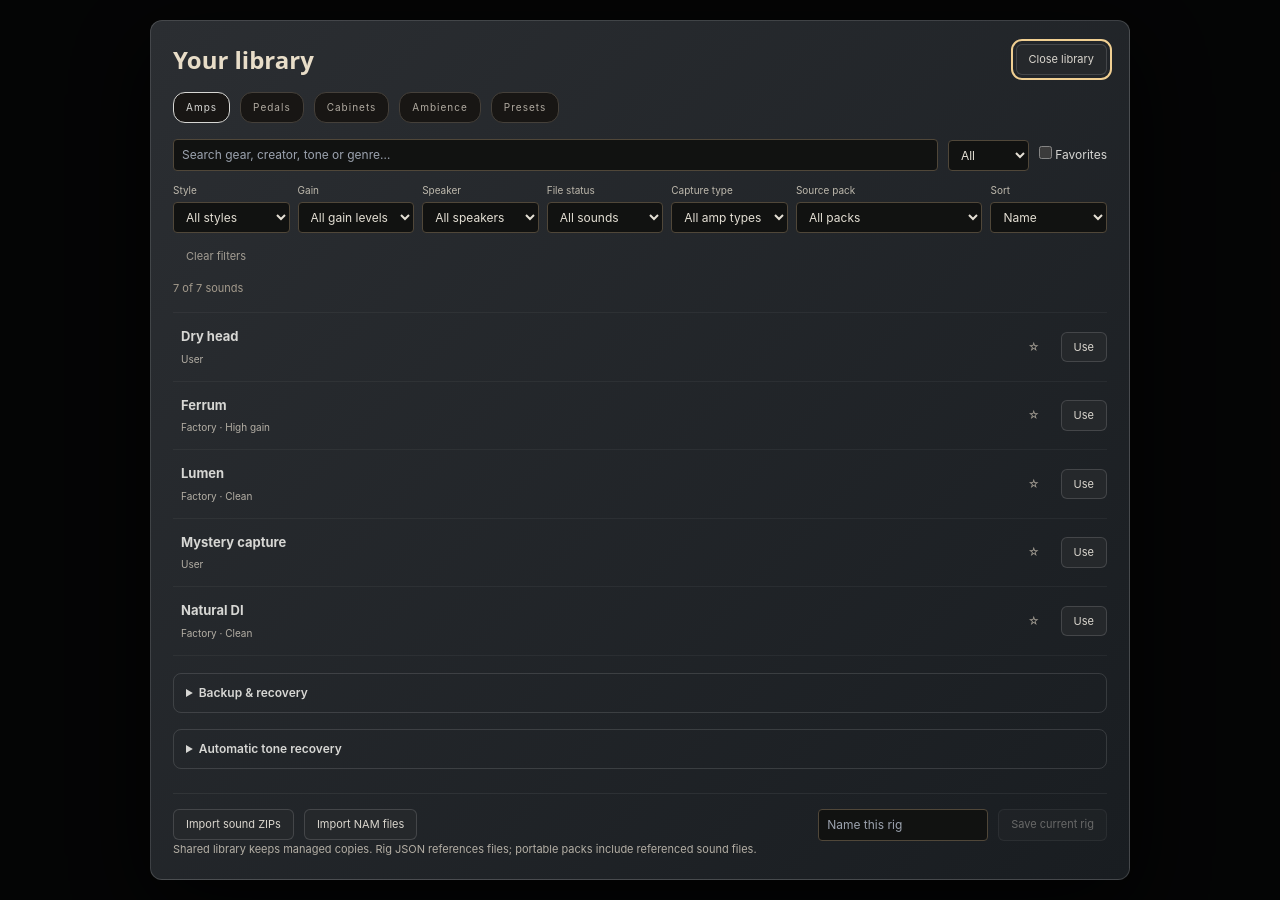
Test: combines missing-file and capture-type filters and refreshes after relinking
Select "Full rig" in the dropdown named "Library capture type" at [730, 218], box [671, 202, 788, 233]
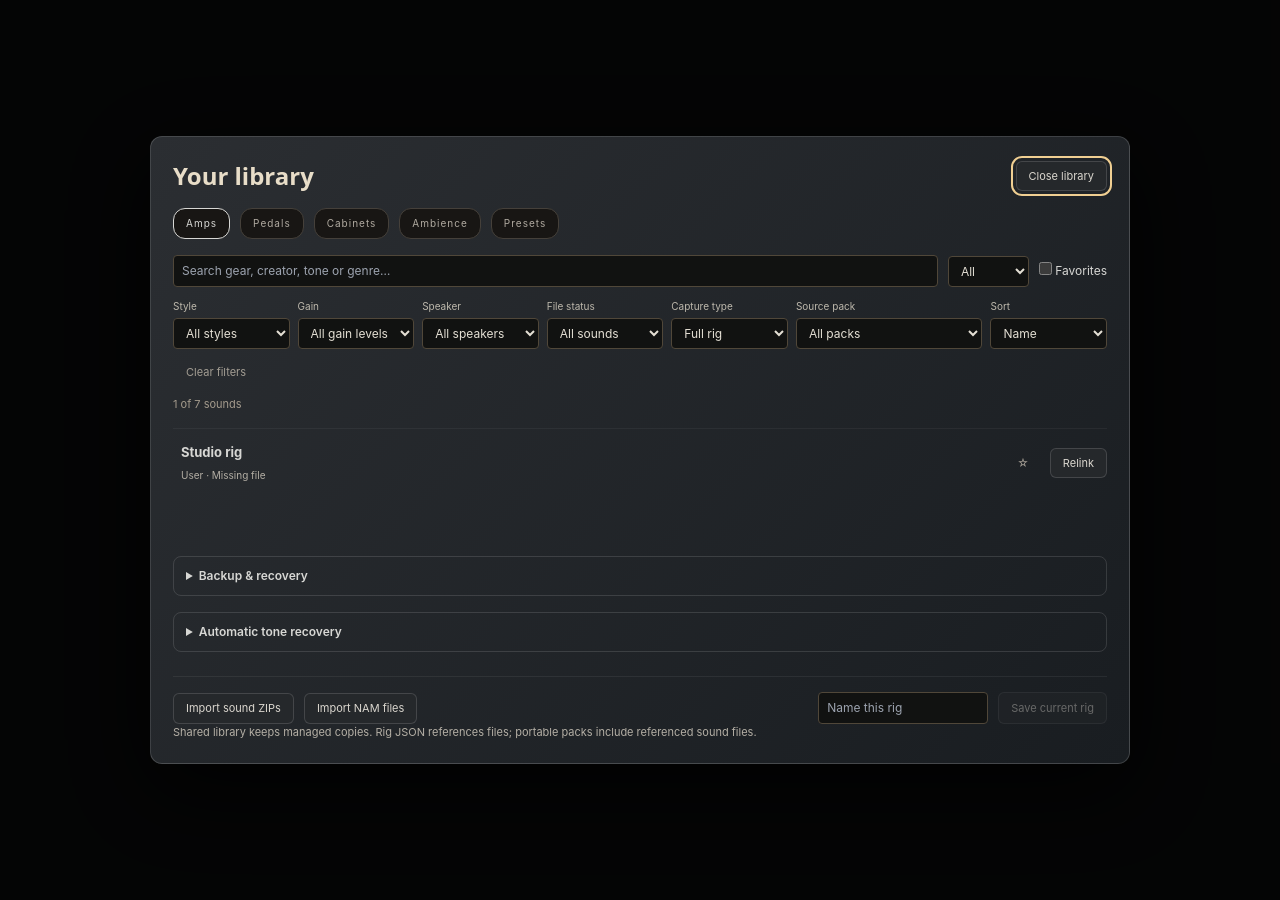
Select "Missing files" in the dropdown named "Library file status" at [605, 334], box [547, 318, 663, 349]
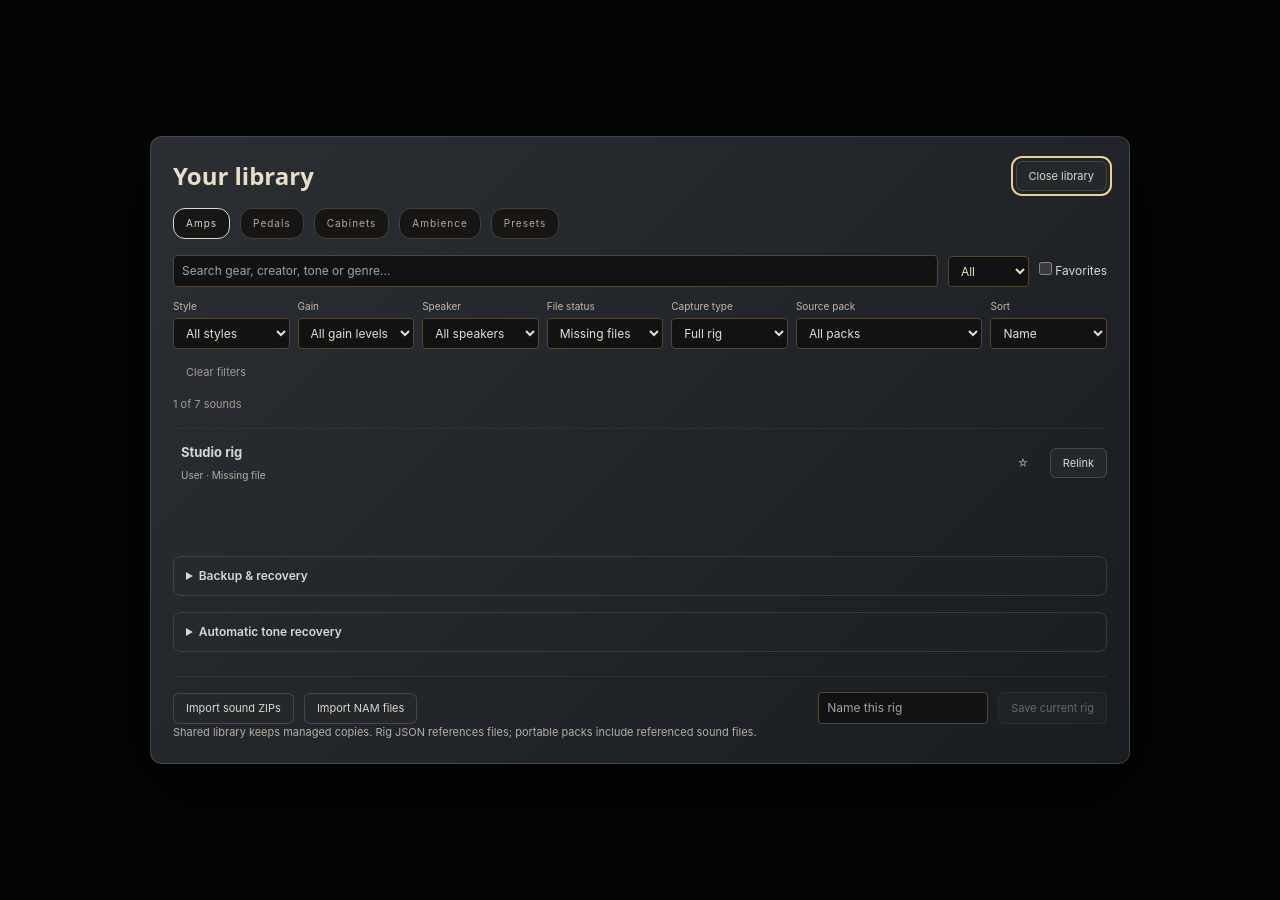
Expected: the button "Dry head" is not shown
Expected: the message reads "1 of 7 sounds", [173, 397, 242, 411]
Click the text "Studio rig" at [212, 452], box [181, 444, 242, 460]
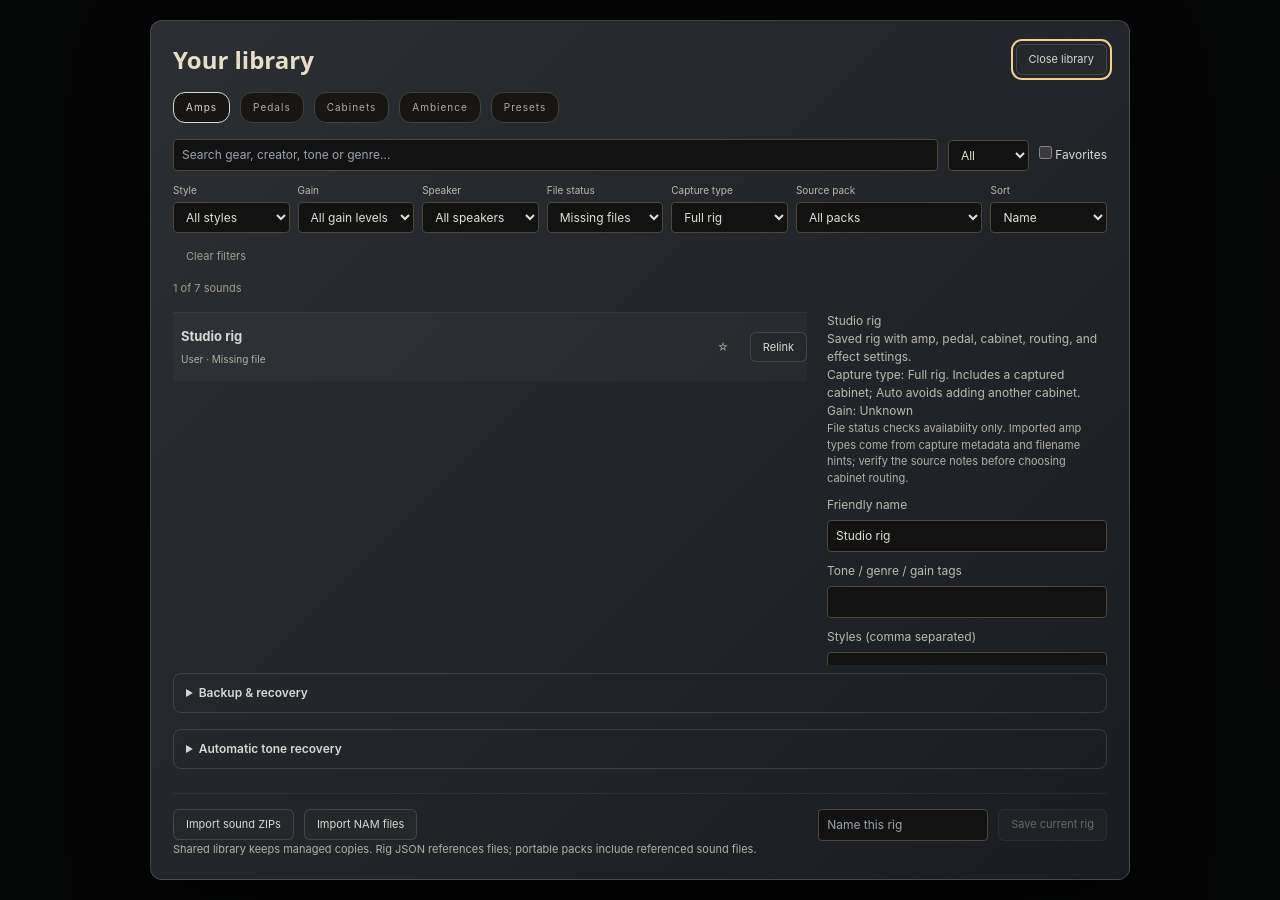
Expected: the text "Includes a captured cabinet" is shown, [827, 367, 1080, 400]
Click the button "Relink" at [778, 347], box [750, 332, 807, 362]
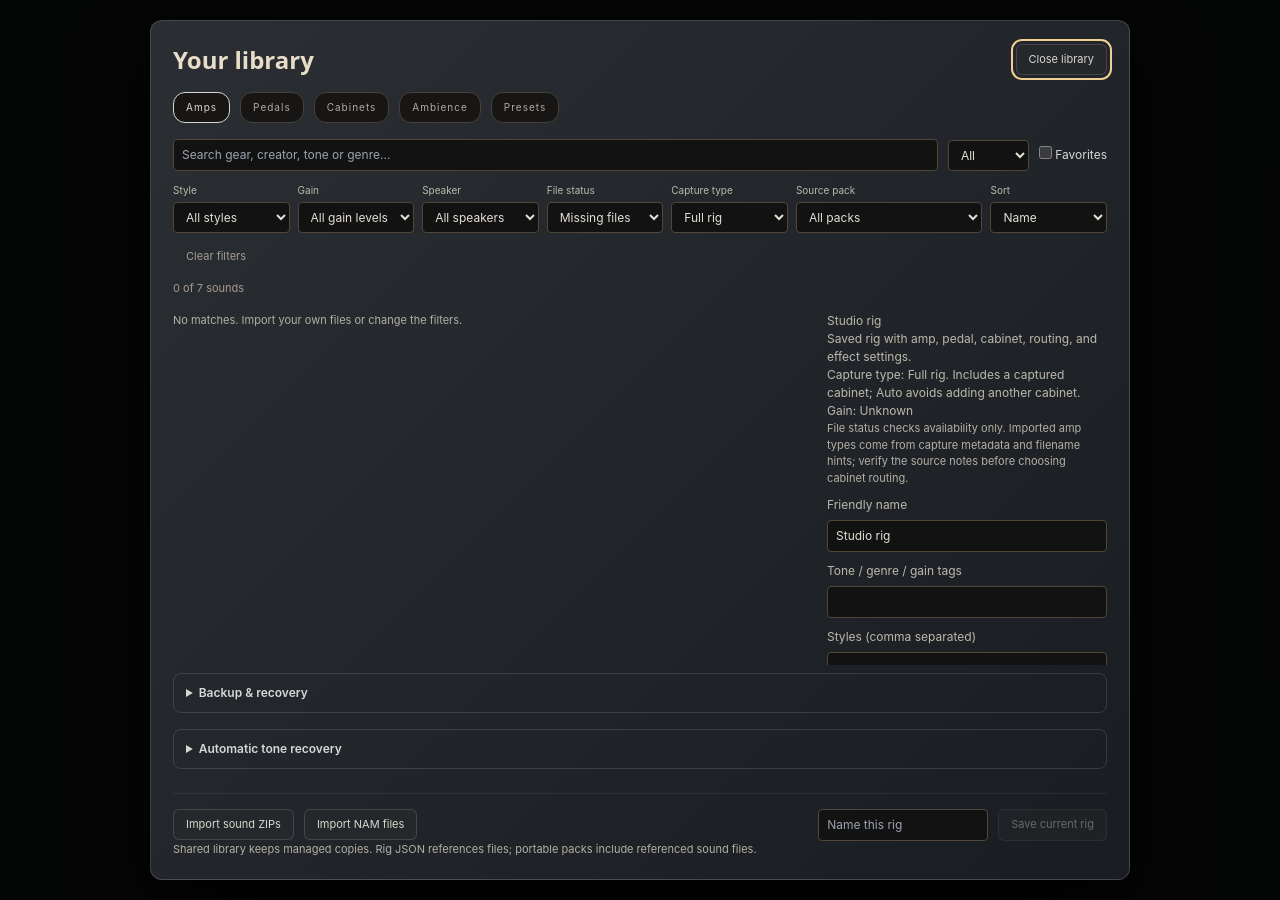
Expected: the message reads "0 of 7 sounds", [173, 280, 244, 294]
Select "Available" in the dropdown named "Library file status" at [605, 218], box [547, 202, 663, 233]
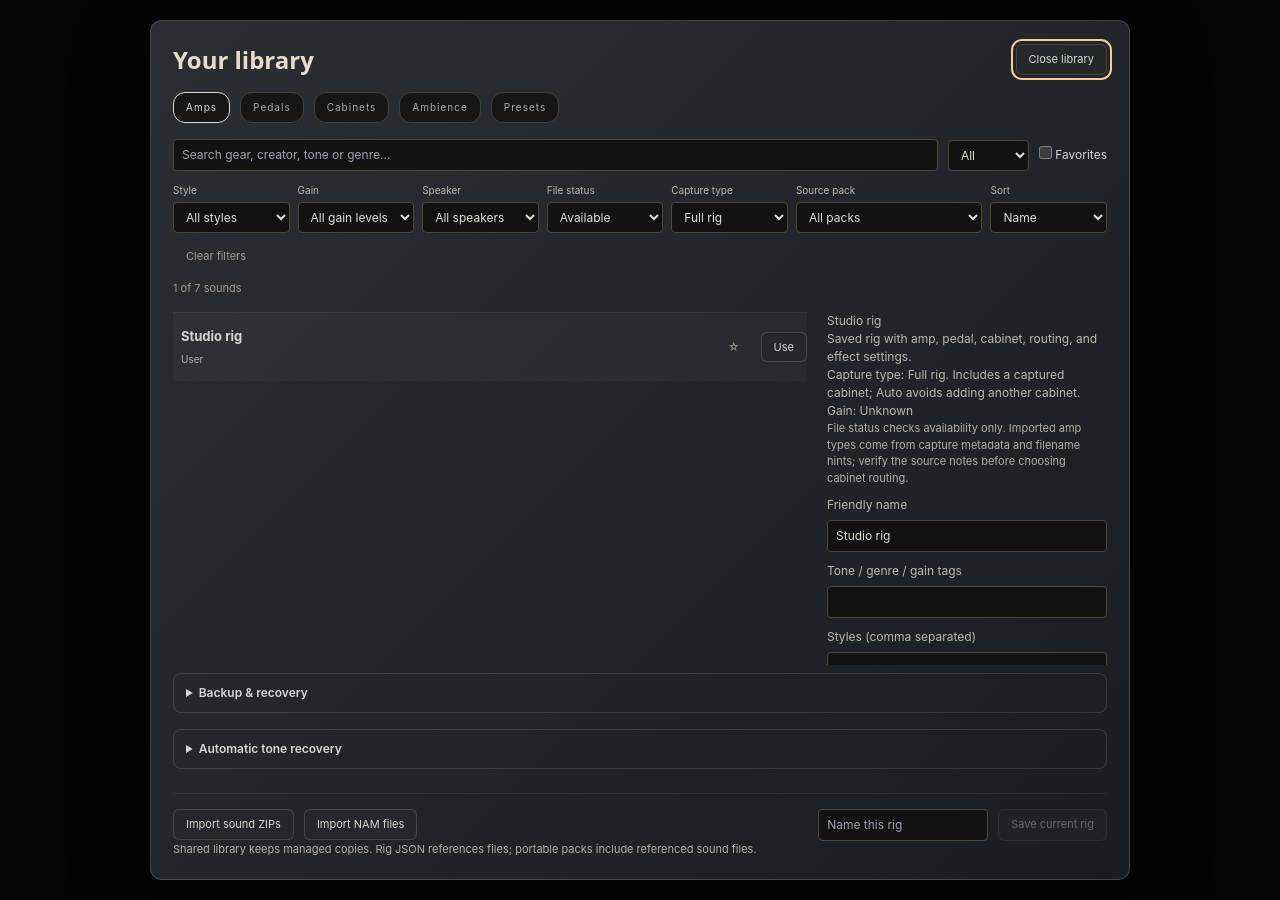
Expected: the message reads "1 of 7 sounds", [173, 280, 242, 294]
Click the button "Clear filters" at [216, 256], box [173, 241, 259, 272]
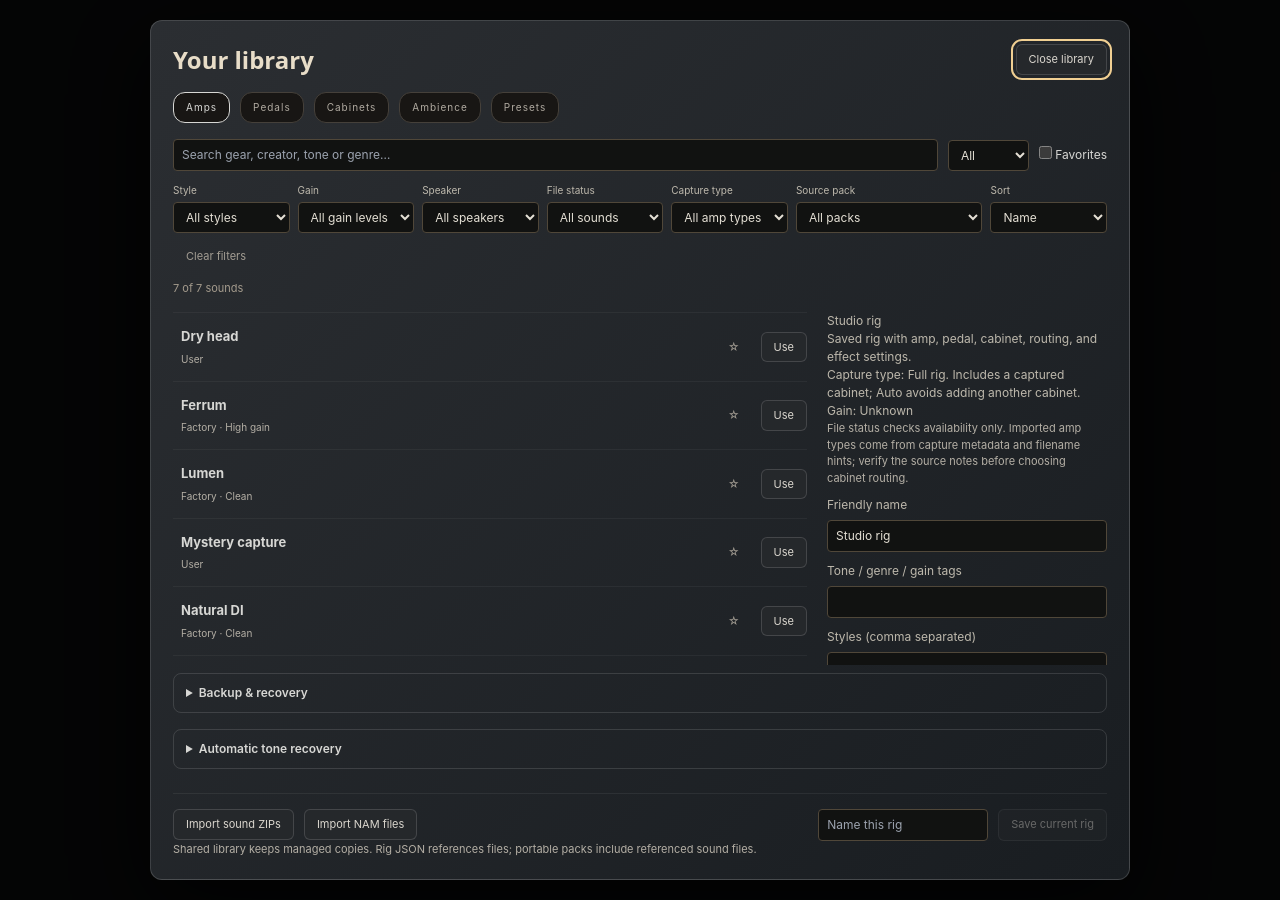
Expected: the text "Dry head" is shown, [181, 328, 238, 344]
